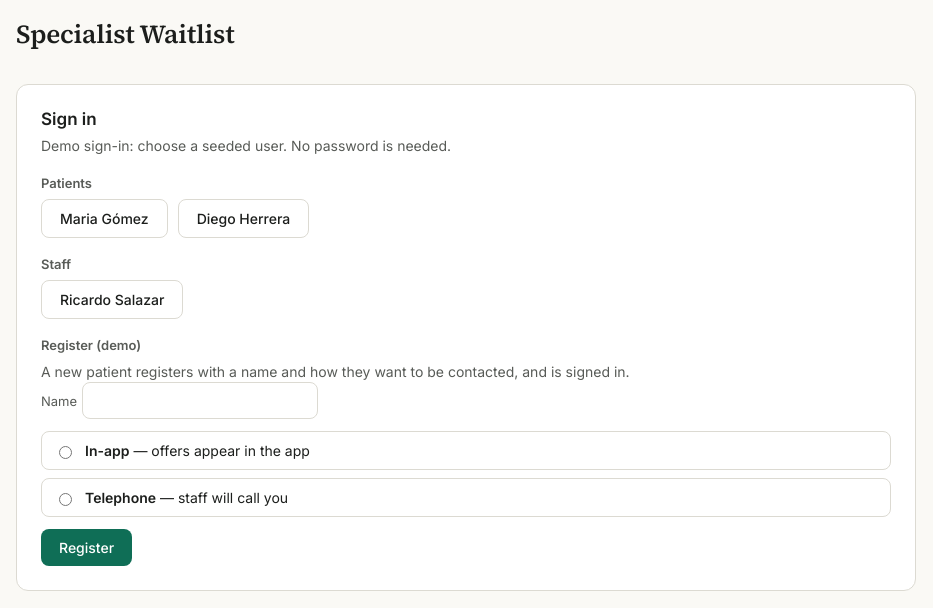
Scenario: sign-in and role routing (6.2) › lands staff on the staff view
The width and height of the screenshot is (933, 608).
Click the button "Ricardo Salazar" at (112, 299), box [41,280,183,319]
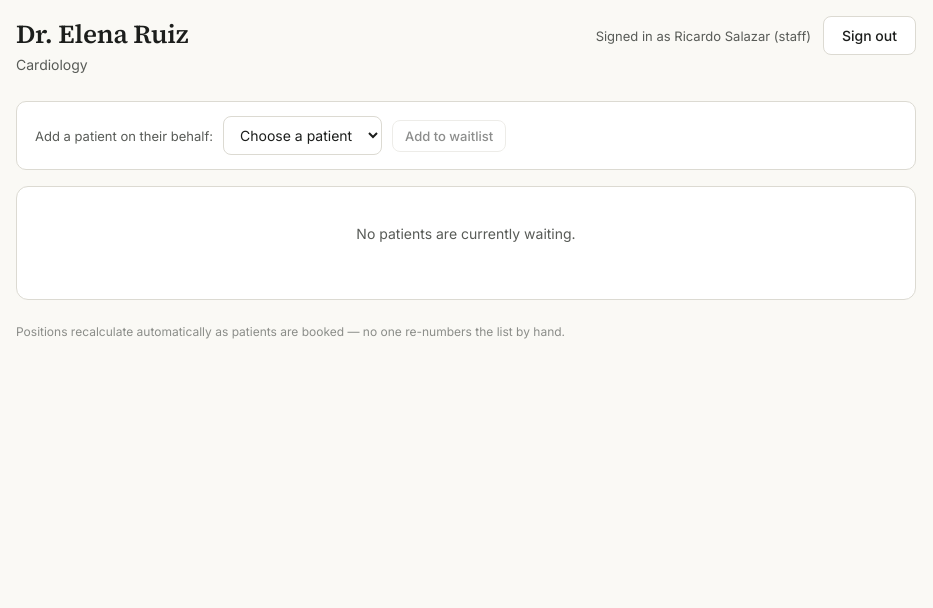
expect the text "No patients are currently waiting." is shown: met, box [356,225,576,242]
